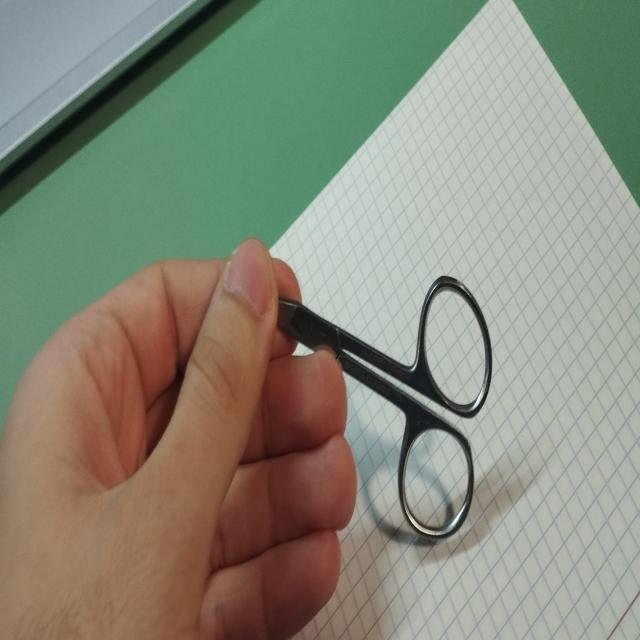tesoura: (239, 256, 496, 552)
